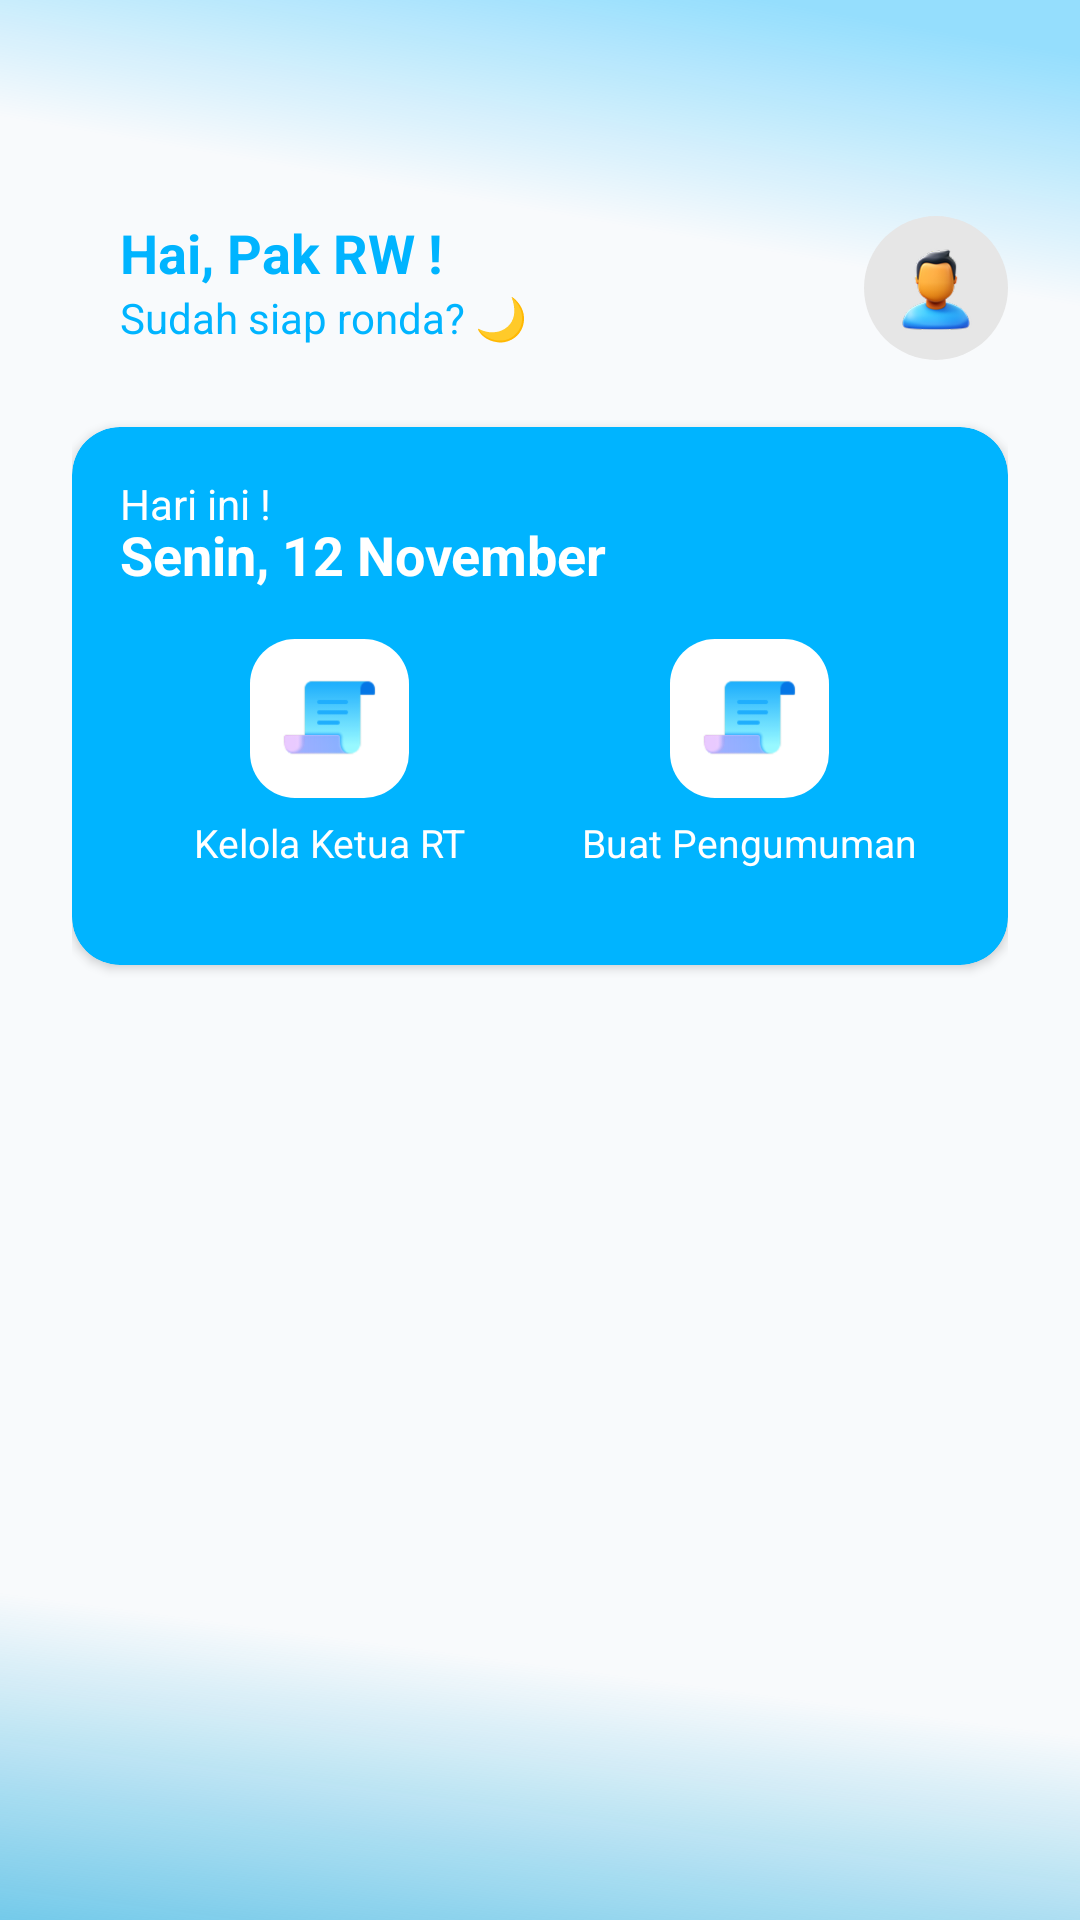

Named icons in this screenshot (1080×1920) and their centers, [x,y]:
kepala: [936,290]
laporan: [329,717], [749,717]
